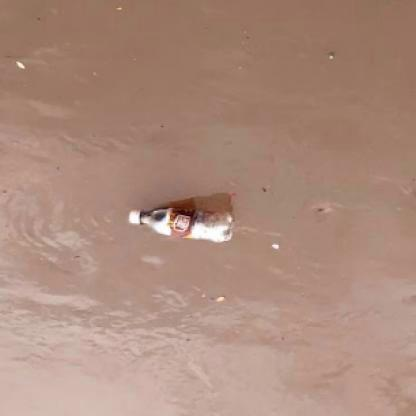Plastic: (126, 200, 236, 243)
